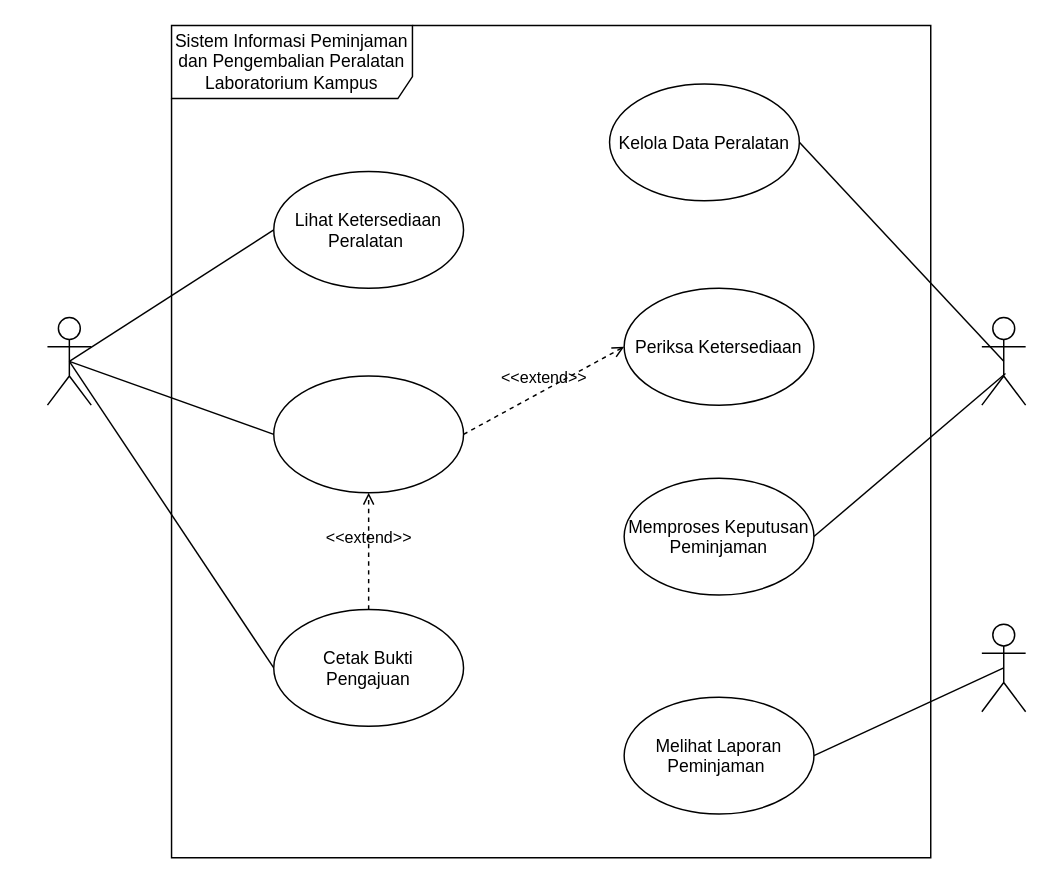
The diagram is 1063 pixels wide and 883 high, and some of its shapes have lost their labels. The shapes that lost their labels are listed below. From the top down, each one's centre as x and y in pixels, then its label:
At (68,360): "Mahasiswa".
At (1003,360): "Petugas Laboran".
At (368,433): "Ajukan Peminjaman".
At (1003,667): "Kepala Laboran".
